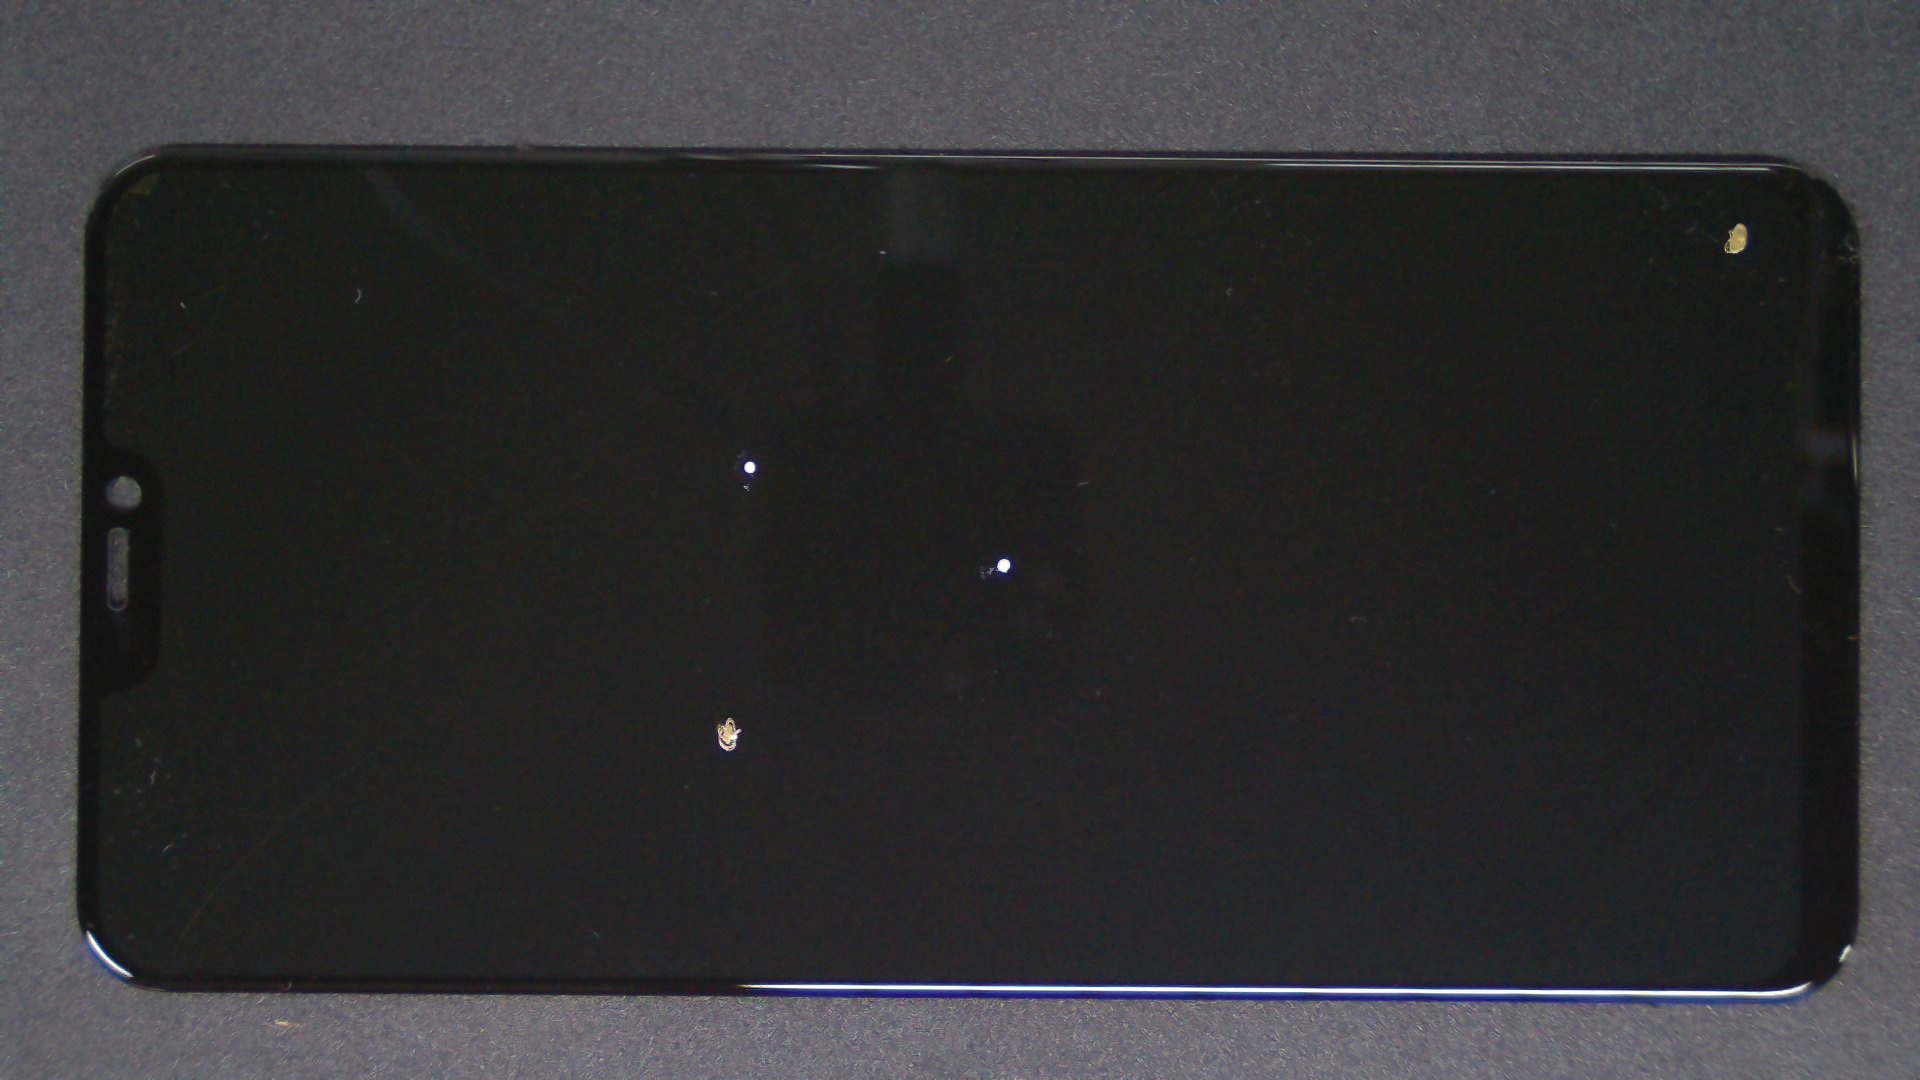oil: (502, 278, 1505, 836), (365, 356, 1093, 1072), (373, 229, 1118, 691), (869, 109, 1920, 332)
